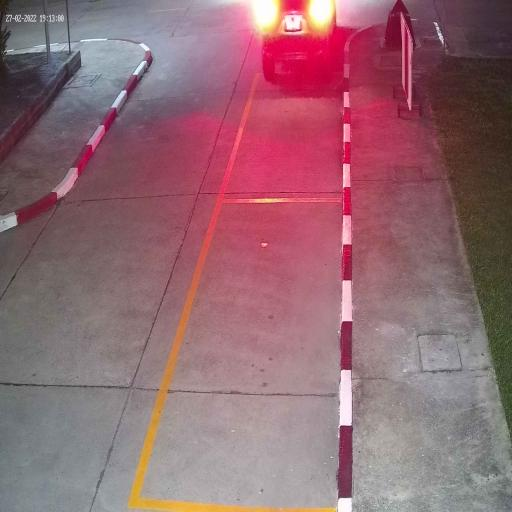car: (260, 0, 336, 80)
